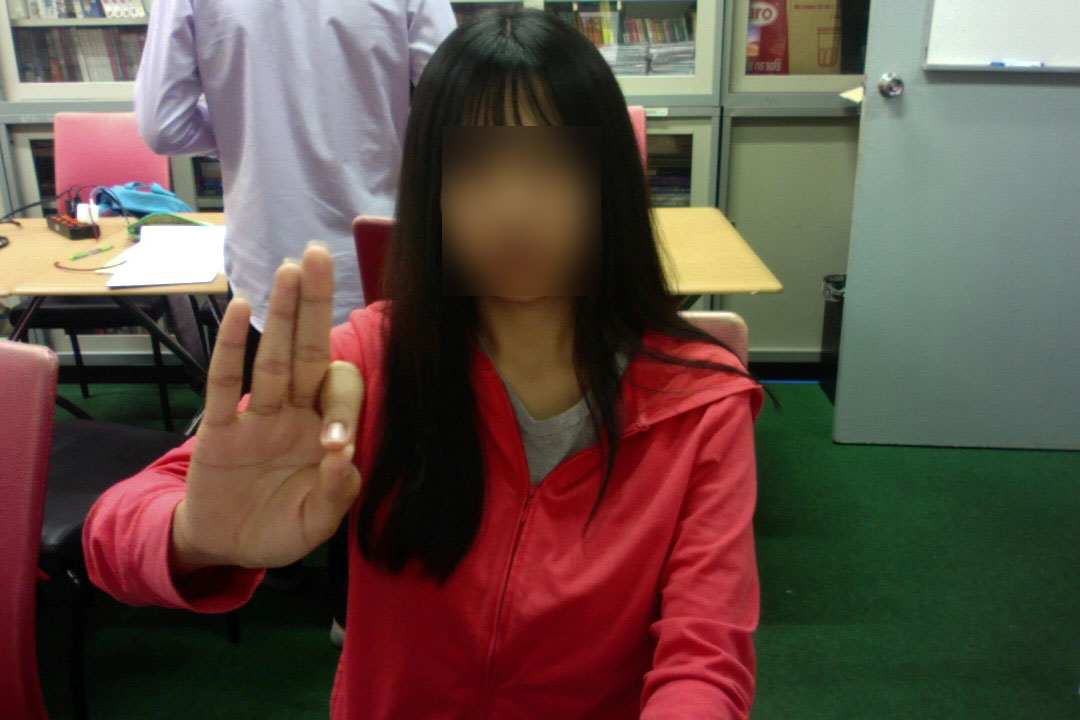for: (161, 234, 385, 590)
